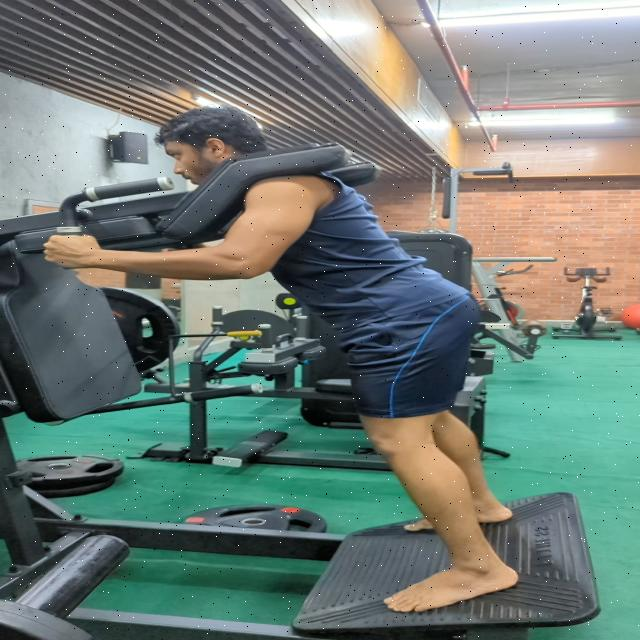Normal_SquatsWithBarbell: (0, 86, 636, 630)
